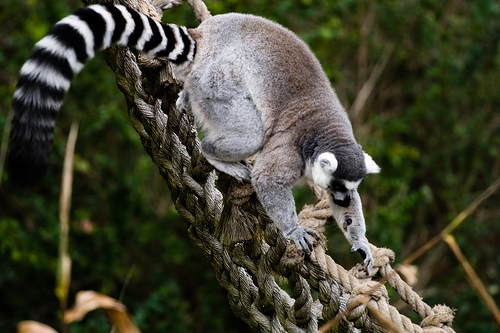cat: (0, 0, 381, 272)
